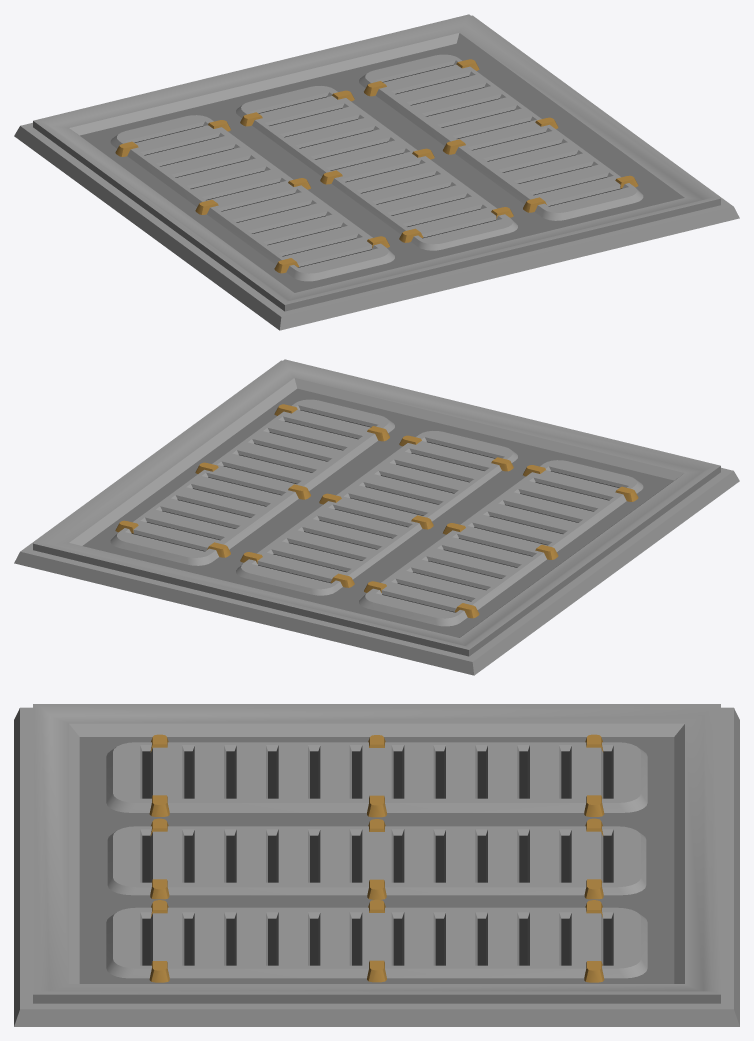
File: RoofTile_Vents.glb
3 views of the same model, one above another, from view 1: azimuth 30°, elevation 25°; view 2: azimuth 150°, elevation 25°; view 3: azimuth 270°, elevation 25° (orthographic). The views are drawn at different scales.
Parts seen in each view (by area): view 1: RoofTile_Vents; view 2: RoofTile_Vents; view 3: RoofTile_Vents.
Boxes of the visible parts, x1=… form: RoofTile_Vents: x1=14, y1=14, x2=739, y2=330; RoofTile_Vents: x1=14, y1=359, x2=739, y2=675; RoofTile_Vents: x1=14, y1=704, x2=739, y2=1026.
Bounding box in the file's own units: 0.68 × 0.0263 × 0.68.
